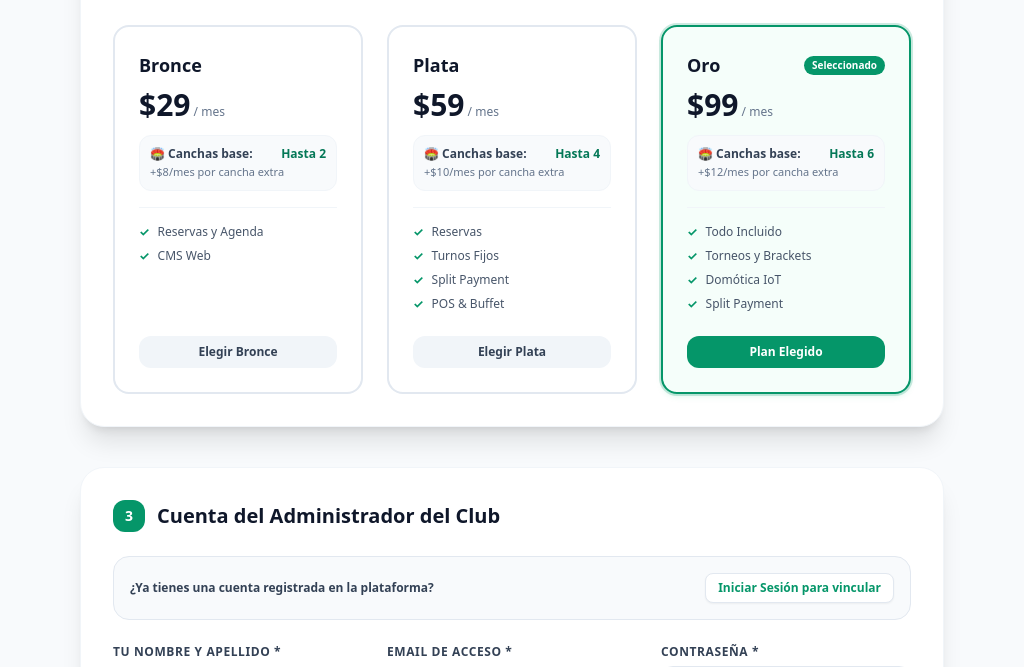
Test: Frontend Auth & Club Onboarding Suite › calculates extra court fee when adding canchas beyond base quota in RegistroClubPage
(page scrolled)
Default plan is Oro (cupo 6). Let's select Bronce (cupo 2, +$8 extra).
Click the button "Elegir Bronce" at [238, 352], box [139,336,337,368]
(page scrolled)
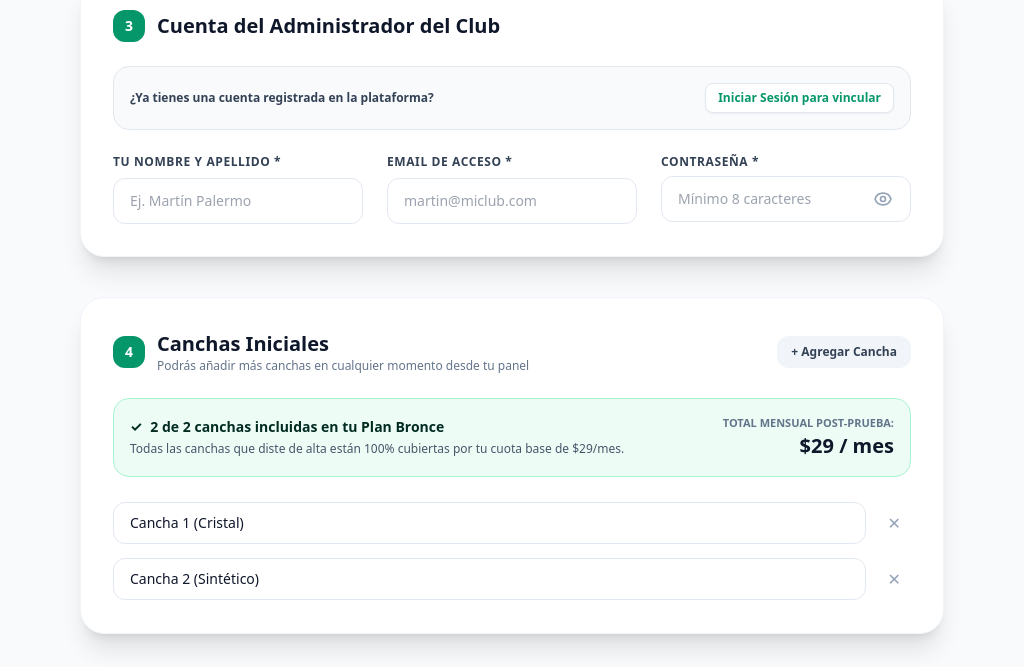
Result: the text "2 de 2 canchas incluidas en tu Plan Bronce" is shown at [150,417,444,437]
Add a 3rd cancha
Click the button "+ Agregar Cancha" at [844, 352], box [777,336,911,368]
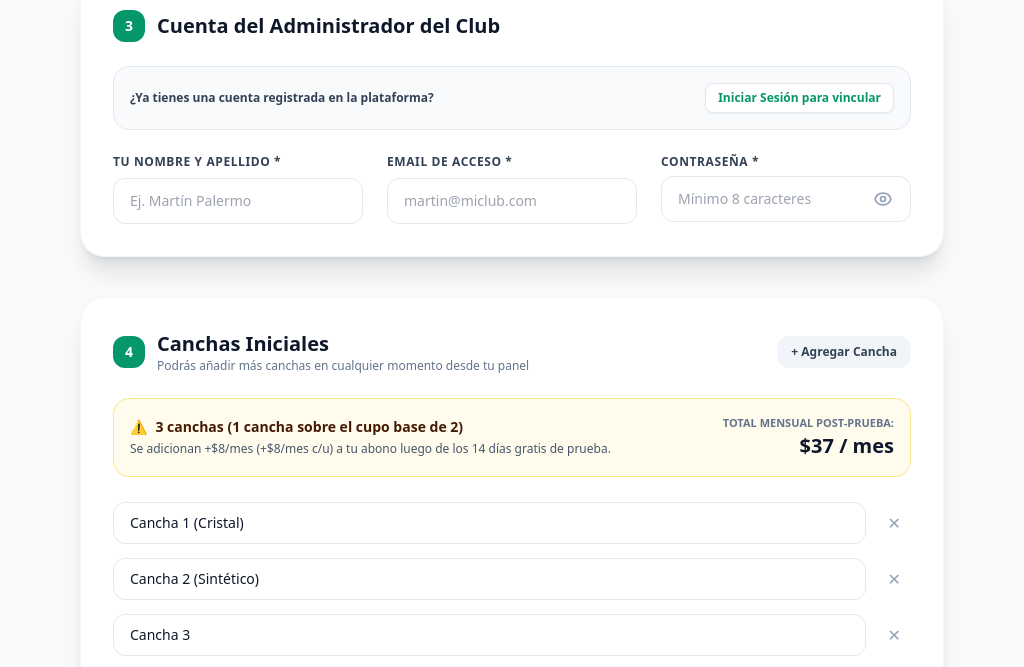
Result: the text "3 canchas (1 cancha sobre el cupo base de 2)" is shown at [156,417,463,437]
Result: the text "$37 / mes" is shown at [800,432,894,458]
